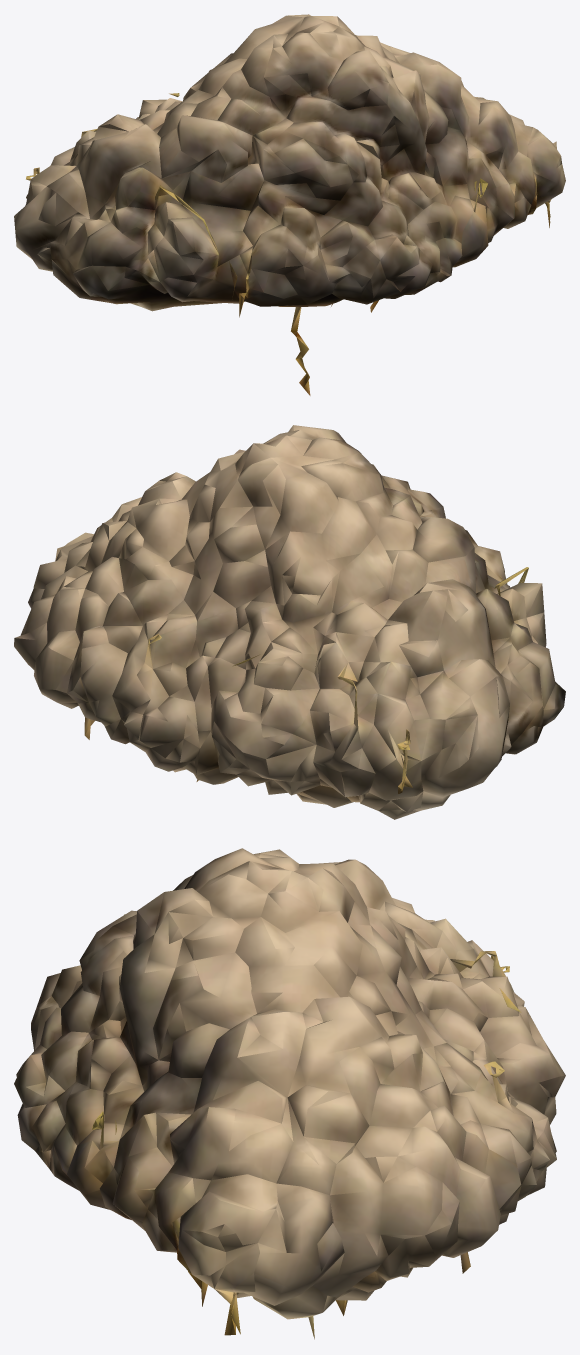
File: m2StormCloud.glb
The picture shows the model from 3 angles, top to bottom: view 1: azimuth 30°, elevation 25°; view 2: azimuth 150°, elevation 25°; view 3: azimuth 270°, elevation 25°; orthographic projection. The views are drawn at different scales.
Visible parts, largest first — view 1: model; view 2: model; view 3: model.
Part boxes in pixels (x1=…): model: x1=14, y1=14, x2=565, y2=395; model: x1=14, y1=425, x2=565, y2=819; model: x1=14, y1=848, x2=565, y2=1339.
Size of the model in its own units: 1.89 by 1.31 by 1.42.
1 material, 1 textured.
